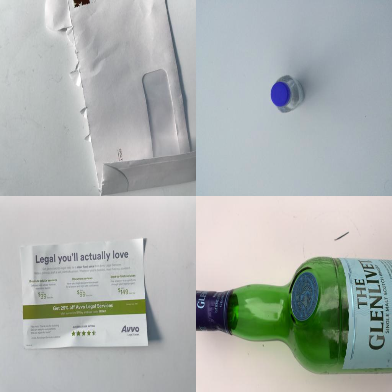glass: (197, 255, 392, 375)
paper: (44, 1, 196, 195), (17, 238, 149, 348)
plastic: (270, 76, 306, 113)
